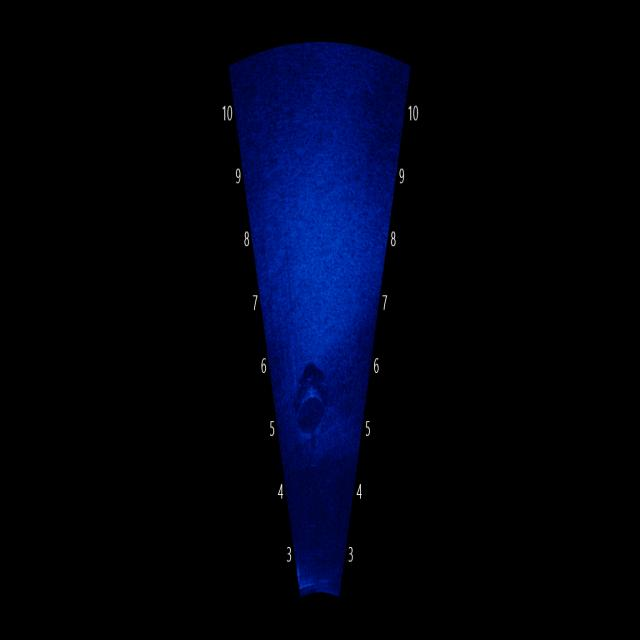circle: (286, 360, 344, 459)
